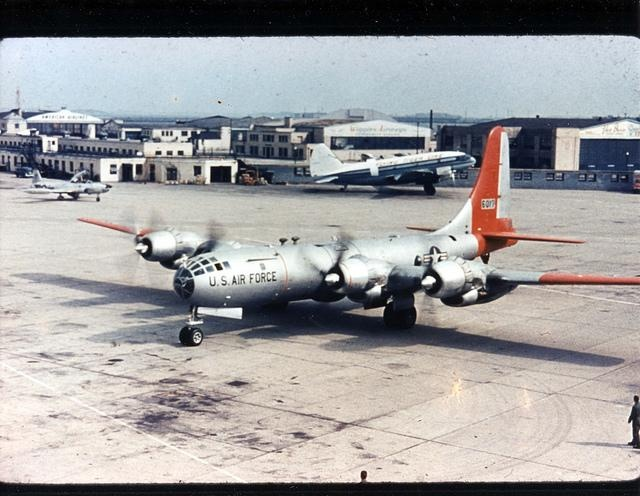airplane: (51, 126, 640, 350)
